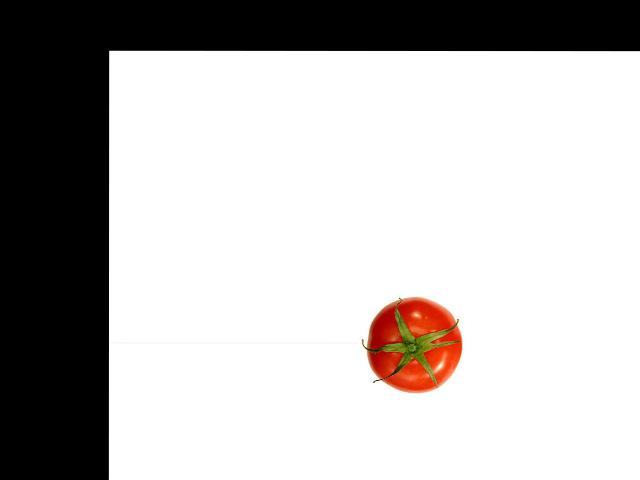tomato: (367, 297, 463, 392)
